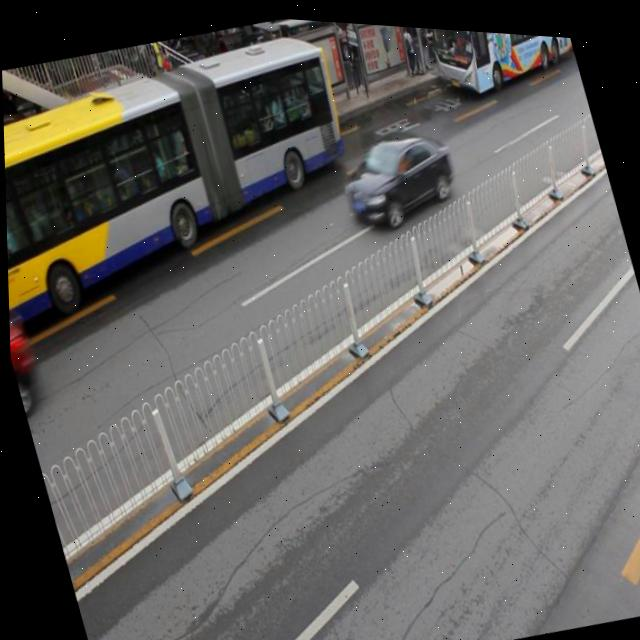car: (331, 113, 460, 232), (44, 76, 149, 171), (139, 39, 228, 129), (232, 23, 310, 100), (2, 107, 59, 203)
van: (0, 11, 379, 348), (415, 22, 582, 105)
